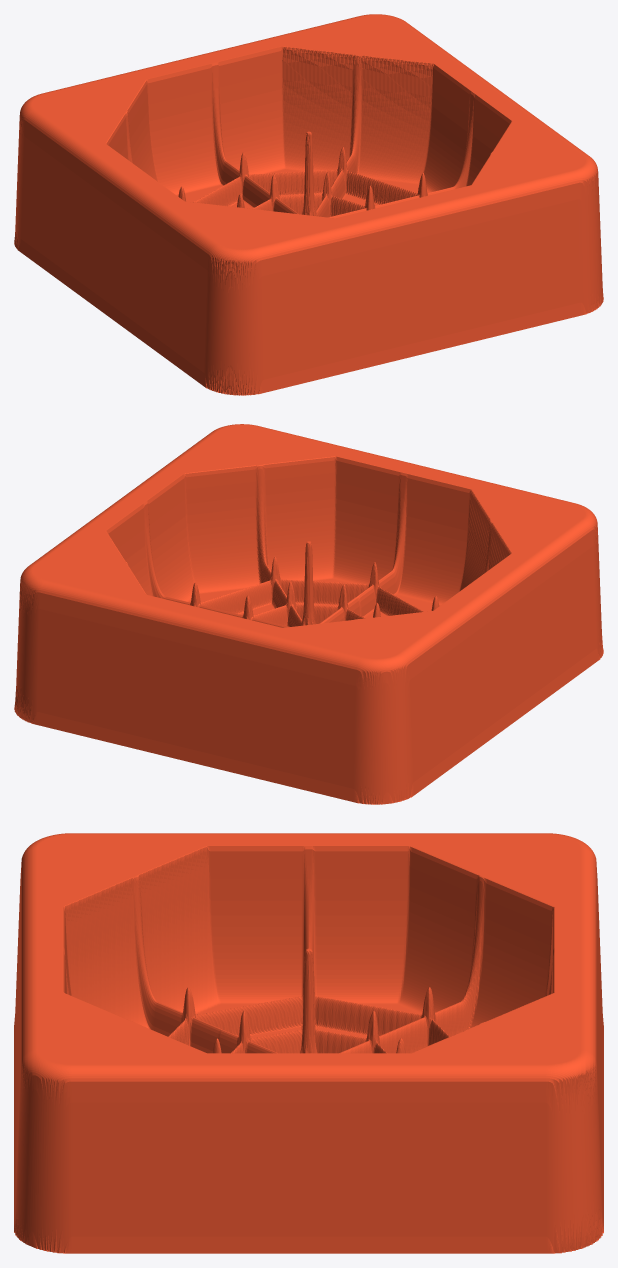
File: mold.glb
The picture shows the model from 3 angles, top to bottom: view 1: azimuth 30°, elevation 25°; view 2: azimuth 150°, elevation 25°; view 3: azimuth 270°, elevation 25°; orthographic projection. The views are drawn at different scales.
Visible parts, largest first — view 1: geometry_0; view 2: geometry_0; view 3: geometry_0.
Boxes of the visible parts, left/top/right/bottom form: geometry_0: left=14, top=14, right=603, bottom=395; geometry_0: left=14, top=424, right=603, bottom=804; geometry_0: left=14, top=833, right=603, bottom=1253.
Bounding box in the file's own units: 0.0924 × 0.031 × 0.0924.
